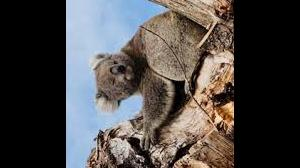Non_Gorille: (72, 11, 202, 138)
